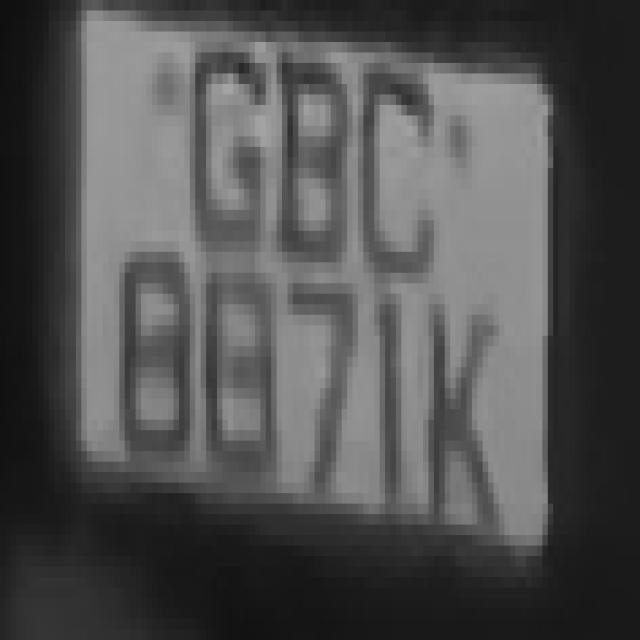1: (358, 262, 412, 535)
6: (184, 241, 304, 472)
7: (277, 262, 358, 493)
8: (103, 210, 195, 482)
B: (260, 31, 358, 294)
C: (342, 52, 450, 284)
G: (174, 0, 276, 252)
K: (412, 262, 504, 556)
